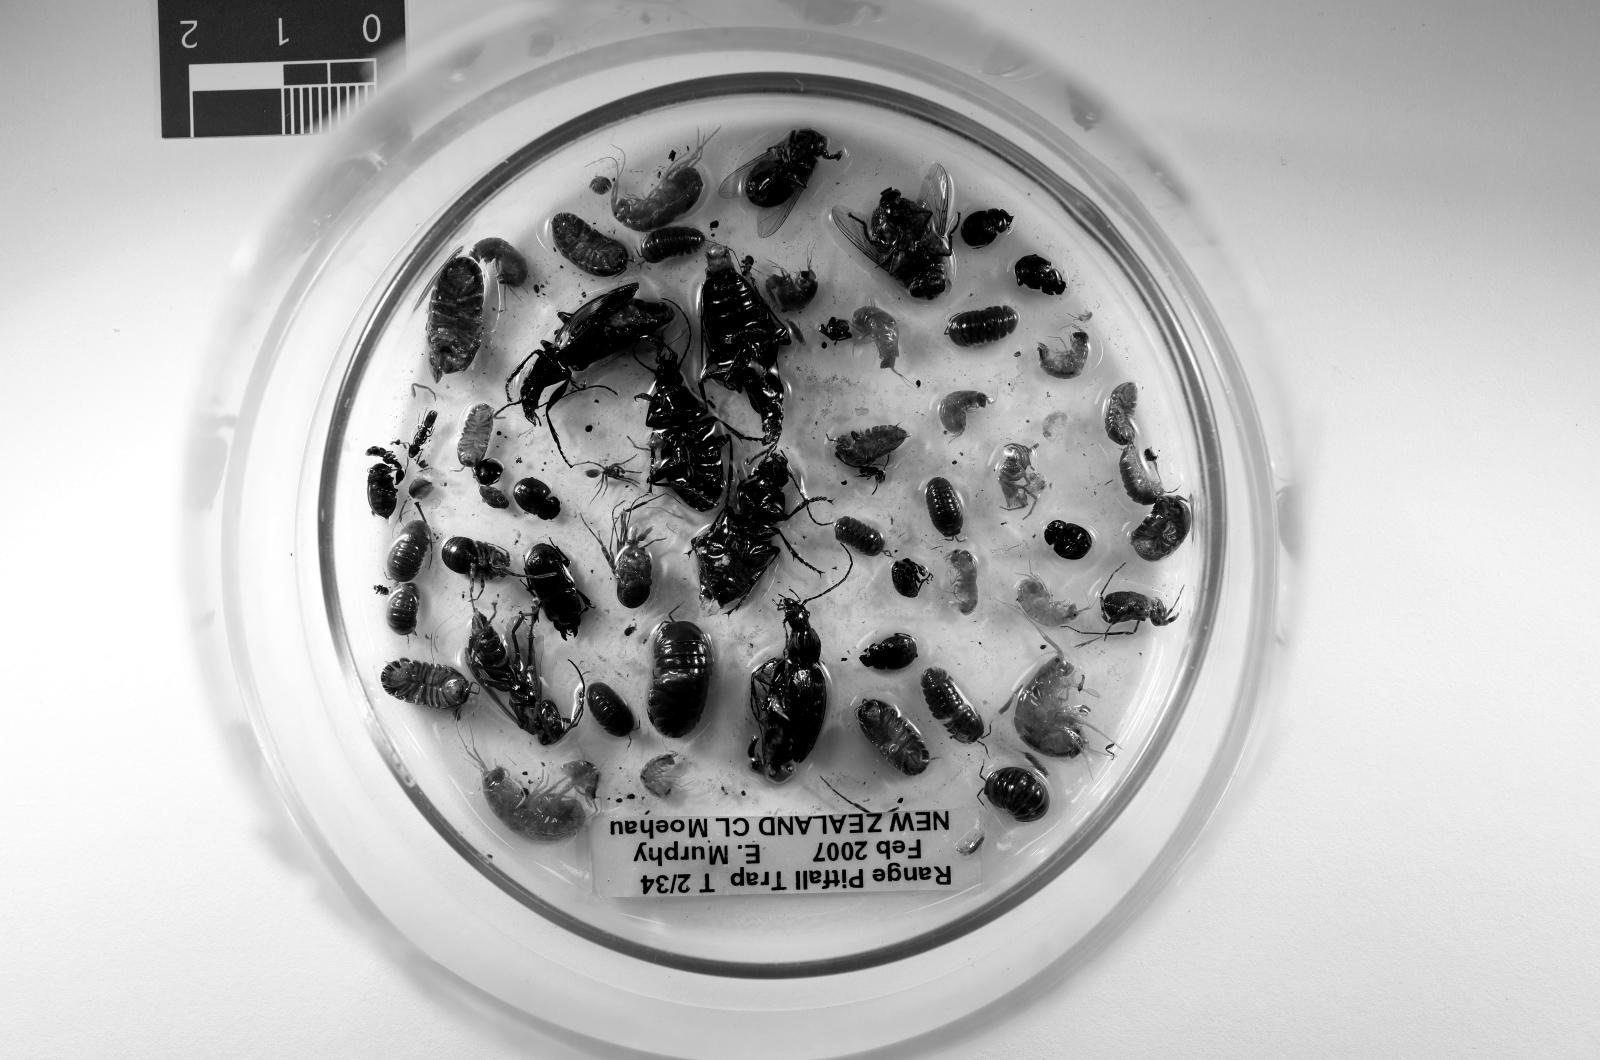acari: (626, 625, 634, 636)
amphipoda: (468, 751, 588, 841), (1000, 640, 1090, 757), (613, 164, 704, 233), (1016, 575, 1081, 627), (853, 308, 900, 369), (472, 237, 529, 286), (1037, 329, 1090, 379), (938, 392, 991, 435), (765, 267, 818, 310), (947, 550, 978, 615), (563, 757, 600, 801), (641, 755, 675, 799), (1041, 409, 1069, 438)
araneae: (997, 444, 1047, 512), (578, 459, 637, 497)
carabidae: (510, 283, 675, 426), (700, 245, 791, 444), (691, 453, 793, 615), (637, 342, 728, 512), (778, 600, 825, 764)
coleoptera: (525, 543, 594, 640), (860, 634, 919, 671), (1012, 254, 1065, 295), (959, 208, 1012, 248), (512, 478, 559, 518), (1044, 522, 1094, 558), (365, 463, 397, 518)
diptera: (831, 164, 957, 298), (719, 128, 843, 239)
formicidae: (407, 409, 438, 459), (365, 447, 403, 485)
hymenoptera: (468, 602, 584, 745)
isopoda: (647, 618, 713, 739), (428, 258, 485, 376), (856, 699, 931, 776), (381, 658, 472, 711), (922, 667, 984, 745), (553, 214, 628, 277), (1132, 493, 1191, 562), (984, 767, 1050, 823), (947, 304, 1018, 348), (388, 518, 434, 584), (835, 426, 909, 466), (584, 680, 634, 736), (1119, 444, 1162, 506), (641, 227, 706, 264), (456, 403, 494, 466), (925, 478, 963, 537), (1103, 382, 1138, 447), (835, 516, 885, 556), (388, 584, 419, 634)
opiliones: (600, 500, 653, 608), (1084, 587, 1178, 640), (441, 537, 512, 590)
